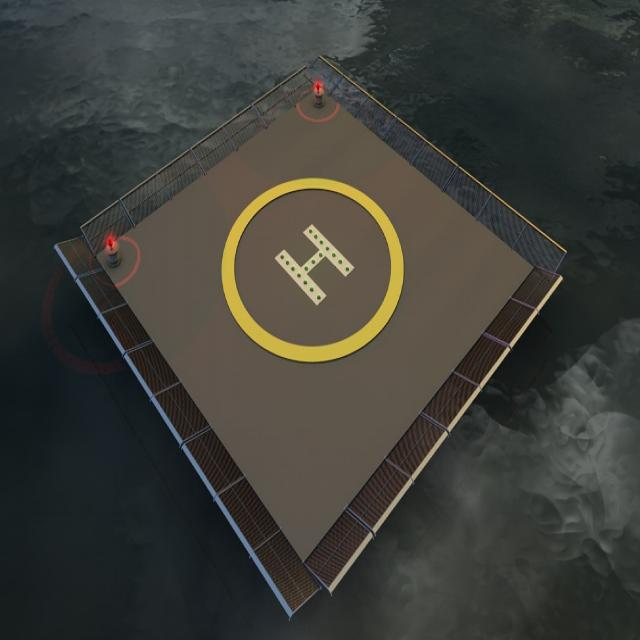helipad: (217, 169, 406, 366)
